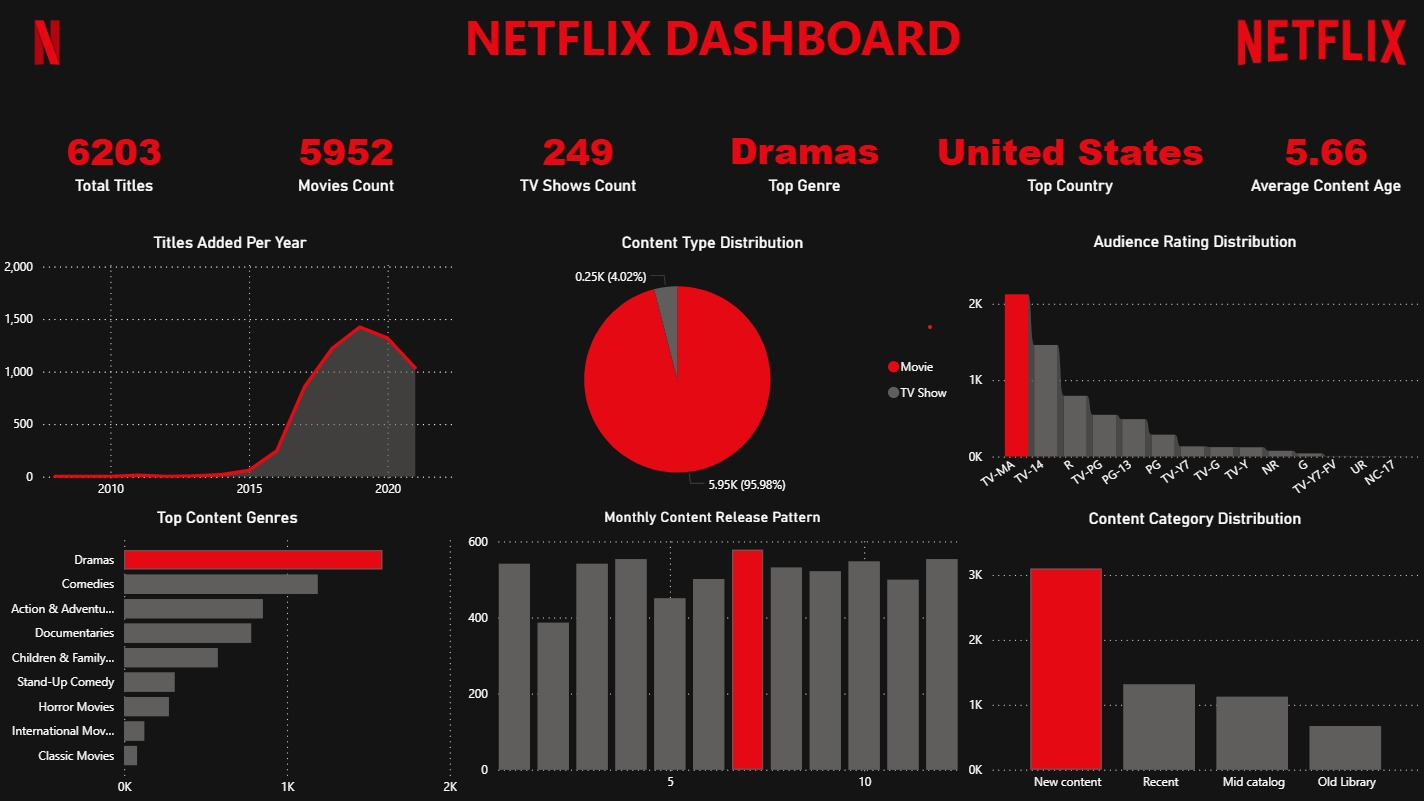

What the dashboard file says about the page in this screenshot:
{"tool":"powerbi","page":{"name":"Page 1","canvas":[1280,720],"ordinal":0},"visuals":[{"type":"image","box":[0,0,88.5,79.8],"z":0},{"type":"image","box":[1090.3,0,189.7,79.8],"z":1000},{"type":"textbox","box":[344.8,0,590.1,79.7],"z":2000},{"type":"card","fields":{"Values":["netflix11.Total Titles"]},"box":[0,79.9,207.8,130.9],"z":3000},{"type":"card","fields":{"Values":["netflix11.Movies Count"]},"box":[207.8,79.9,207.8,130.9],"z":4000},{"type":"card","fields":{"Values":["netflix11.TV Shows Count"]},"box":[415.7,79.9,207.8,130.9],"z":5000},{"type":"card","fields":{"Values":["netflix11.Top Genre"]},"box":[623.3,79.7,197.9,130.7],"z":6000},{"type":"card","fields":{"Values":["netflix11.Top Country"]},"box":[821.4,79.9,277.8,130.9],"z":7000},{"type":"card","fields":{"Values":["netflix11.Average Content Age"]},"box":[1099.1,79.9,180.9,130.9],"z":8000},{"type":"lineChart","title":"Titles Added Per Year","fields":{"Category":["netflix11.year_added"],"Y":["CountNonNull(netflix11.show_id)"]},"box":[0,210.4,415.5,247.2],"z":9000},{"type":"clusteredColumnChart","title":"Monthly Content Release Pattern","fields":{"Category":["netflix11.month_added"],"Y":["Count(netflix11.show_id)"]},"box":[415.5,457.6,448.7,262.4],"z":10000},{"type":"clusteredBarChart","title":"Top Content Genres","fields":{"Category":["netflix11.Genre"],"Y":["CountNonNull(netflix11.show_id)"]},"box":[0,457,415.5,262.4],"z":11000},{"type":"columnChart","title":"Audience Rating Distribution","fields":{"Category":["netflix11.rating"],"Y":["CountNonNull(netflix11.show_id)"]},"box":[864.2,209.6,415.5,248.1],"z":12000},{"type":"donutChart","title":"Content Type Distribution","fields":{"Category":["netflix11.type"],"Y":["CountNonNull(netflix11.show_id)"]},"box":[415.5,210.4,448.7,246.3],"z":13000},{"type":"clusteredColumnChart","title":"Content Category Distribution","fields":{"Category":["netflix11.content_category"],"Y":["CountNonNull(netflix11.show_id)"]},"box":[864.2,457.6,415.5,262.4],"z":14000}]}

Visuals, with their boxes in screenshot pixels (x1, y1, x2, y2), scaled from the page's 1280x720 canvas onto the 1424x801 screenshot:
image: <bbox>0, 0, 98, 89</bbox>
image: <bbox>1213, 0, 1423, 89</bbox>
textbox: <bbox>384, 0, 1040, 89</bbox>
card - netflix11.Total Titles: <bbox>0, 89, 231, 235</bbox>
card - netflix11.Movies Count: <bbox>231, 89, 462, 235</bbox>
card - netflix11.TV Shows Count: <bbox>462, 89, 694, 235</bbox>
card - netflix11.Top Genre: <bbox>693, 89, 914, 234</bbox>
card - netflix11.Top Country: <bbox>914, 89, 1223, 235</bbox>
card - netflix11.Average Content Age: <bbox>1223, 89, 1423, 235</bbox>
"Titles Added Per Year" lineChart: <bbox>0, 234, 462, 509</bbox>
"Monthly Content Release Pattern" clusteredColumnChart: <bbox>462, 509, 961, 800</bbox>
"Top Content Genres" clusteredBarChart: <bbox>0, 508, 462, 800</bbox>
"Audience Rating Distribution" columnChart: <bbox>961, 233, 1423, 509</bbox>
"Content Type Distribution" donutChart: <bbox>462, 234, 961, 508</bbox>
"Content Category Distribution" clusteredColumnChart: <bbox>961, 509, 1423, 800</bbox>
